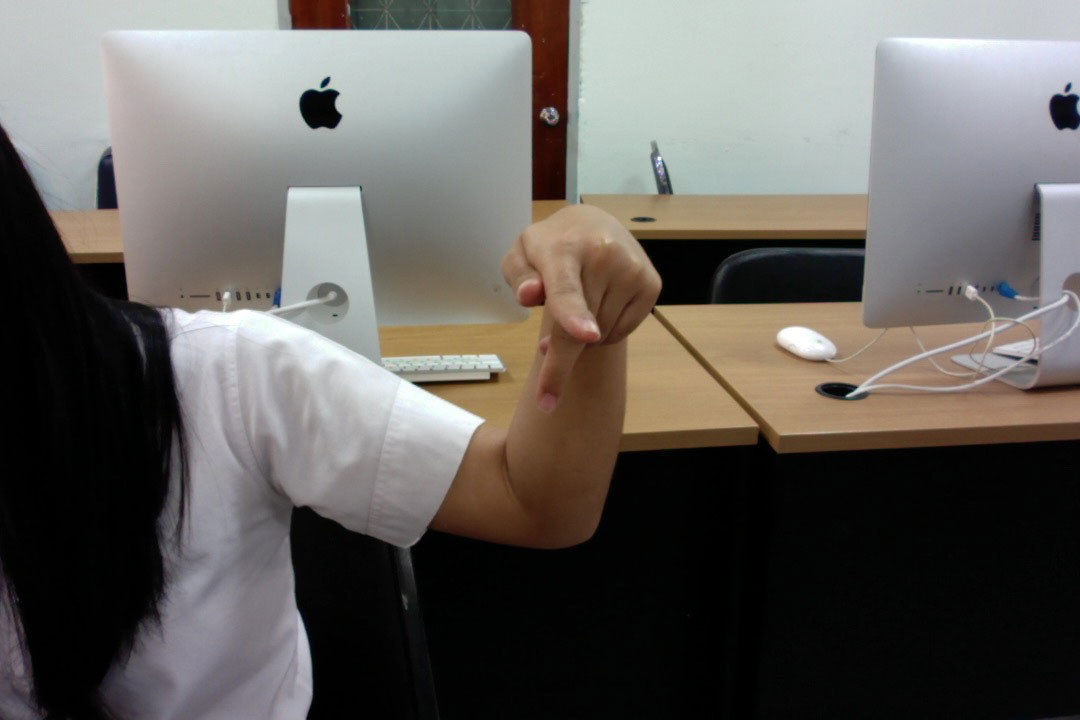por: (494, 195, 668, 422)
